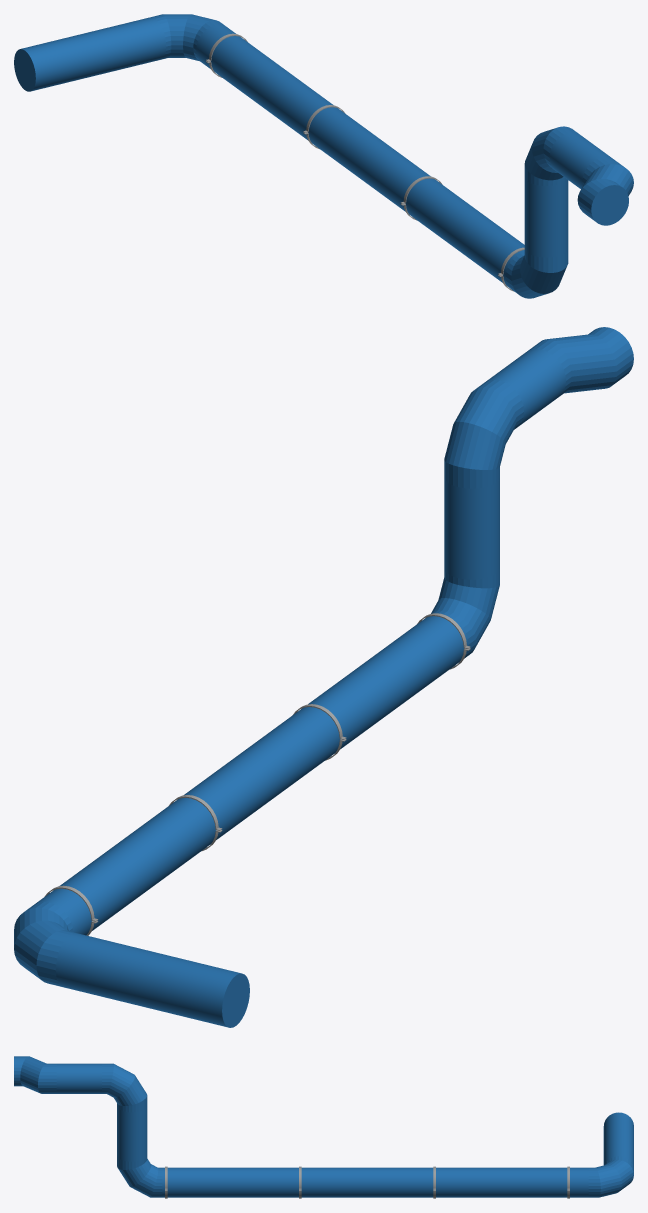
The model's file is Phase35 (2).fbx.
3 views of the same model, one above another, from view 1: azimuth 30°, elevation 25°; view 2: azimuth 150°, elevation 25°; view 3: azimuth 270°, elevation 25° (orthographic). The views are drawn at different scales.
Parts seen in each view (by area): view 1: Воздуховод круглого сечения:CPS_Оцинковка_Врезки_ГОСТ 14918- (×4), RAL 5015 (×5); view 2: Воздуховод круглого сечения:CPS_Оцинковка_Врезки_ГОСТ 14918- (×4), RAL 5015 (×5); view 3: Воздуховод круглого сечения:CPS_Оцинковка_Врезки_ГОСТ 14918- (×4), RAL 5015 (×5).
Part boxes in pixels (x1,y1,x2,y2): Воздуховод круглого сечения:CPS_Оцинковка_Врезки_ГОСТ 14918- (×4): [14, 17, 612, 287]; RAL 5015 (×5): [151, 14, 633, 298]; Воздуховод круглого сечения:CPS_Оцинковка_Врезки_ГОСТ 14918- (×4): [35, 349, 565, 1027]; RAL 5015 (×5): [14, 327, 633, 986]; Воздуховод круглого сечения:CPS_Оцинковка_Врезки_ГОСТ 14918- (×4): [56, 1063, 633, 1197]; RAL 5015 (×5): [14, 1056, 633, 1197].
Bounding box in the file's own units: 2266 × 9248 × 2175.
